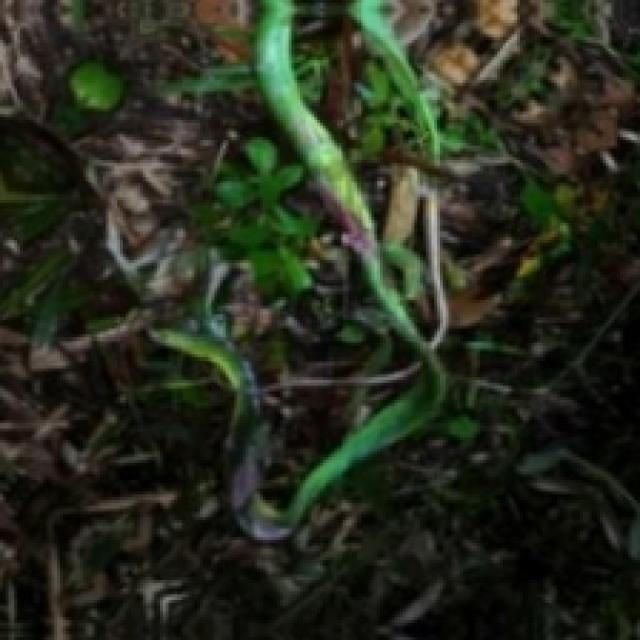red-tailed green ratsnake: (154, 0, 450, 542), (351, 0, 440, 159)
